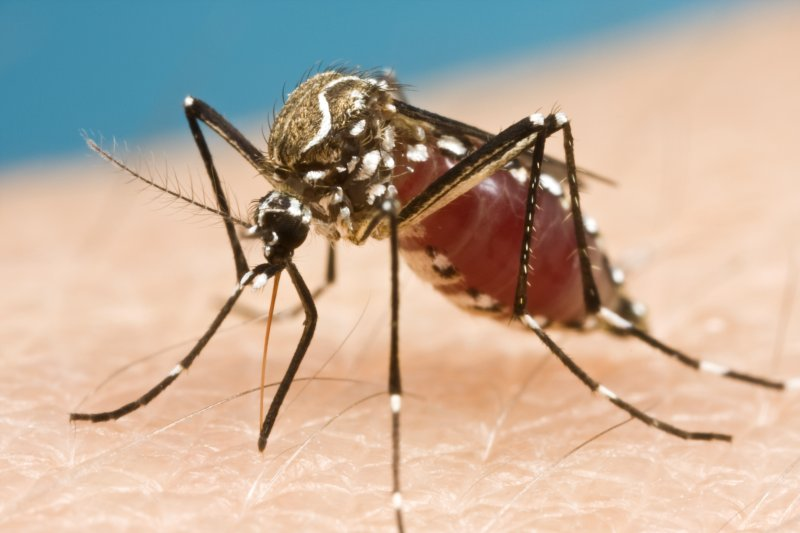dengue_mosquito: (66, 59, 733, 443)
